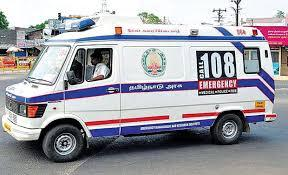ER: (2, 13, 277, 161)
